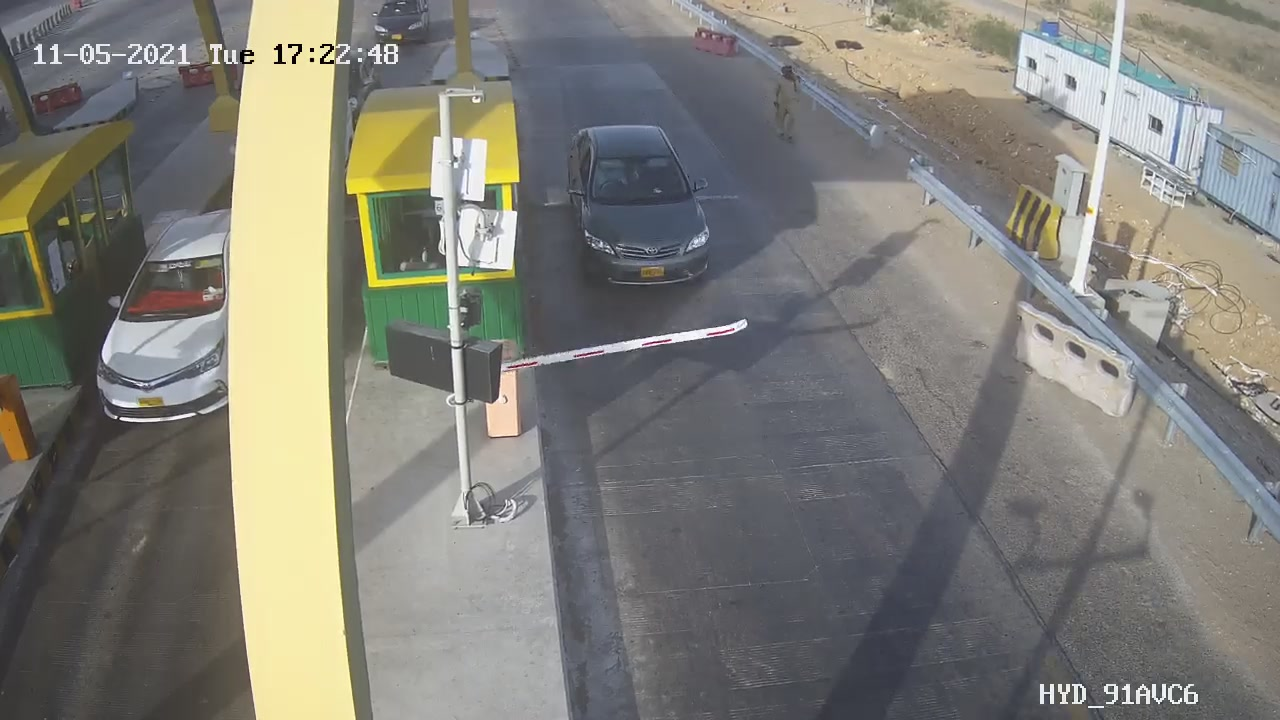F1: (544, 107, 738, 308)
